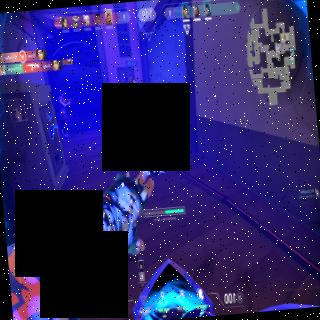ENEMY-BODY: (122, 76, 148, 163), (58, 86, 72, 138)
ENEMY-HEAD: (130, 78, 138, 92), (60, 91, 66, 99)
